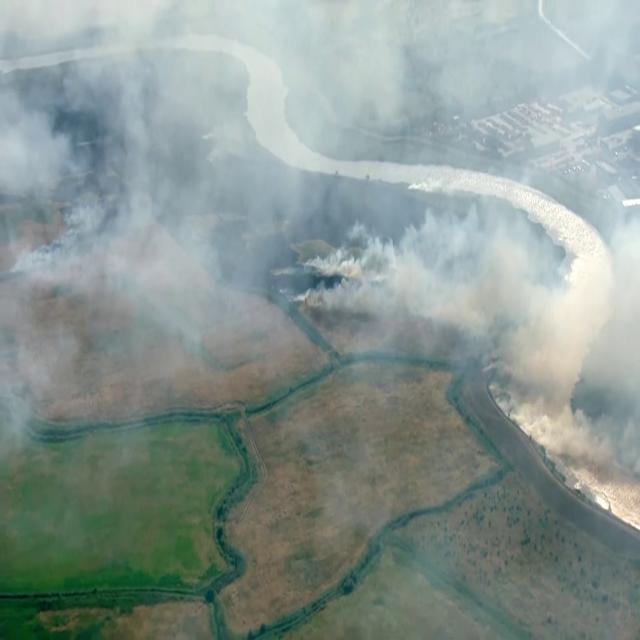Smoke: (513, 294, 606, 401)
